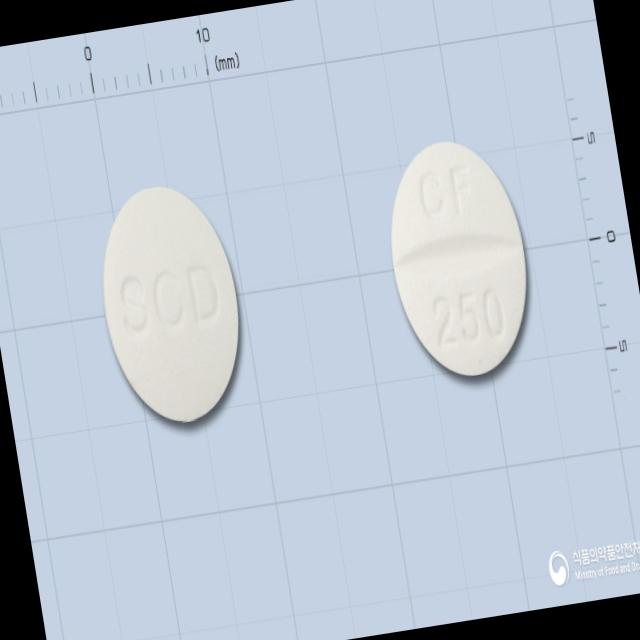Cf: (80, 170, 262, 438), (371, 126, 546, 392)
